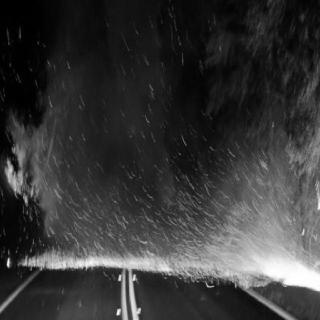Fire: (3, 117, 319, 295)
